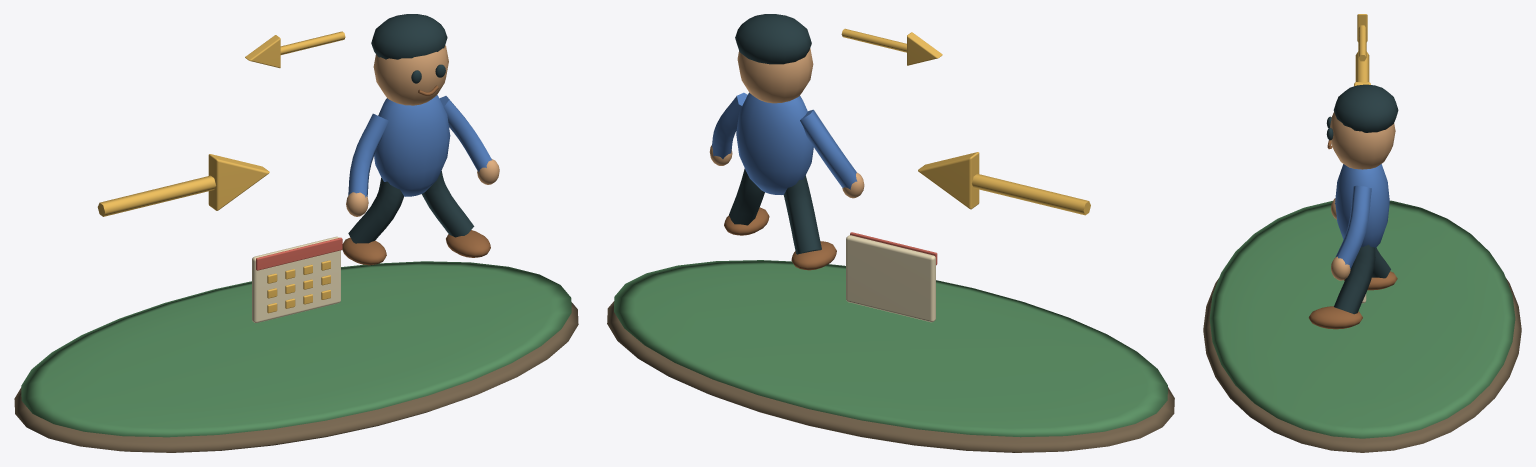
File: complete-first-past-behind.glb
3 views of the same model, side by side, from view 1: azimuth 30°, elevation 25°; view 2: azimuth 150°, elevation 25°; view 3: azimuth 270°, elevation 25° (orthographic). The views are drawn at different scales.
Parts seen in each view (by area): view 1: complete-first-past-behind_surface_01, complete-first-past-behind_surface_00, complete-first-past-behind_surface_06, complete-first-past-behind_surface_02, complete-first-past-behind_surface_04, complete-first-past-behind_surface_07, complete-first-past-behind_surface_03, complete-first-past-behind_surface_05, complete-first-past-behind_surface_08; view 2: complete-first-past-behind_surface_01, complete-first-past-behind_surface_00, complete-first-past-behind_surface_06, complete-first-past-behind_surface_04, complete-first-past-behind_surface_07, complete-first-past-behind_surface_02, complete-first-past-behind_surface_03, complete-first-past-behind_surface_05; view 3: complete-first-past-behind_surface_01, complete-first-past-behind_surface_00, complete-first-past-behind_surface_04, complete-first-past-behind_surface_06, complete-first-past-behind_surface_03, complete-first-past-behind_surface_05, complete-first-past-behind_surface_02.
Part boxes in pixels (x1,y1,x2,y2): complete-first-past-behind_surface_01: (21,261,571,437); complete-first-past-behind_surface_00: (14,302,578,452); complete-first-past-behind_surface_06: (348,95,491,197); complete-first-past-behind_surface_02: (97,31,345,313); complete-first-past-behind_surface_04: (348,14,474,243); complete-first-past-behind_surface_07: (252,236,340,322); complete-first-past-behind_surface_03: (346,45,499,216); complete-first-past-behind_surface_05: (342,85,490,265); complete-first-past-behind_surface_08: (256,237,342,270); complete-first-past-behind_surface_01: (614,260,1167,437); complete-first-past-behind_surface_00: (607,301,1174,452); complete-first-past-behind_surface_06: (712,92,857,194); complete-first-past-behind_surface_04: (729,14,821,254); complete-first-past-behind_surface_07: (846,235,935,322); complete-first-past-behind_surface_02: (841,28,1090,215); complete-first-past-behind_surface_03: (709,48,864,198); complete-first-past-behind_surface_05: (724,207,836,270); complete-first-past-behind_surface_01: (1209,200,1515,438); complete-first-past-behind_surface_00: (1203,278,1521,452); complete-first-past-behind_surface_04: (1326,84,1398,314); complete-first-past-behind_surface_06: (1335,164,1389,269); complete-first-past-behind_surface_03: (1330,112,1395,280); complete-first-past-behind_surface_05: (1308,140,1397,329); complete-first-past-behind_surface_02: (1354,14,1370,86).
Bounding box in the file's own units: 4.56 × 2.79 × 2.5.
